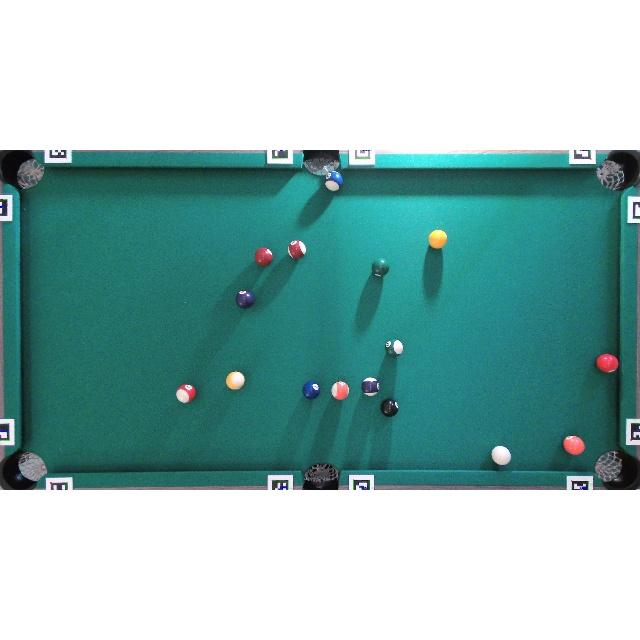cue ball: (491, 445, 512, 466)
other: (563, 435, 585, 455), (596, 353, 618, 373), (176, 384, 197, 404), (428, 229, 448, 249), (254, 247, 274, 266), (380, 398, 399, 417), (371, 258, 390, 277), (361, 378, 380, 397), (226, 371, 245, 390), (384, 339, 404, 357), (325, 171, 343, 191), (302, 380, 320, 399), (288, 240, 306, 259), (236, 290, 254, 308), (332, 381, 349, 400)
